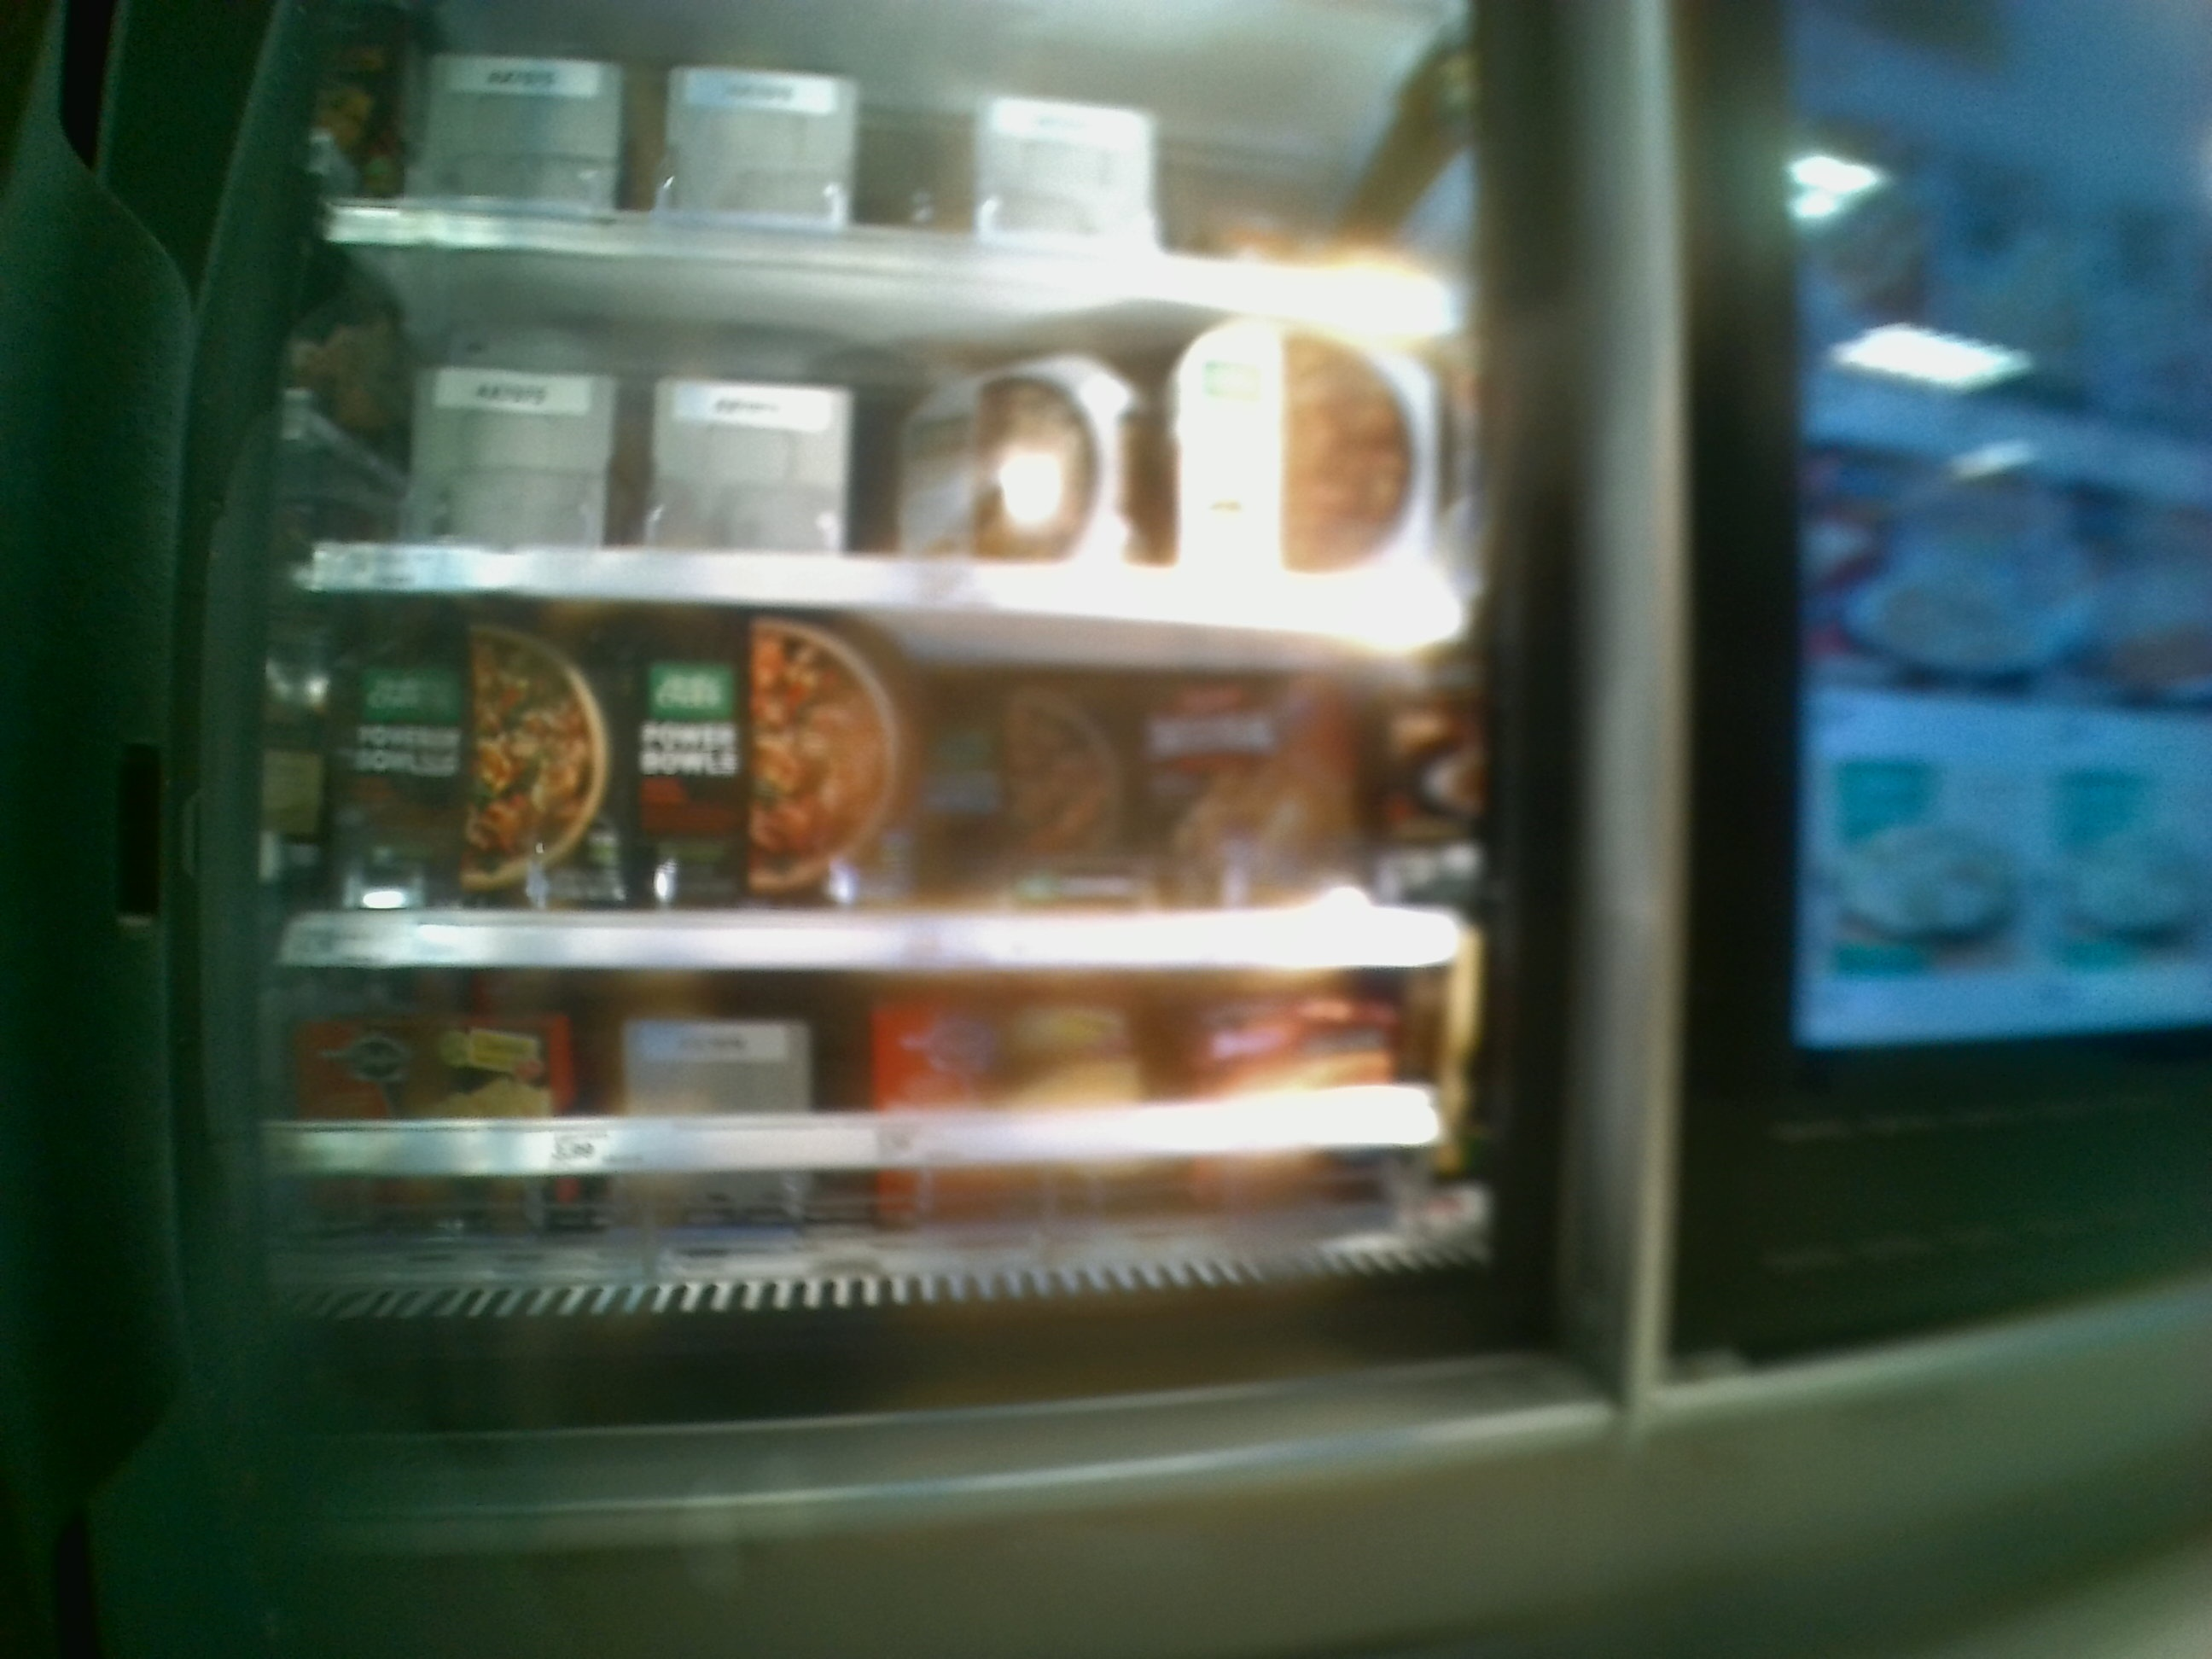shelf: (275, 969, 1479, 1344), (308, 242, 1468, 631), (279, 586, 1460, 967)
